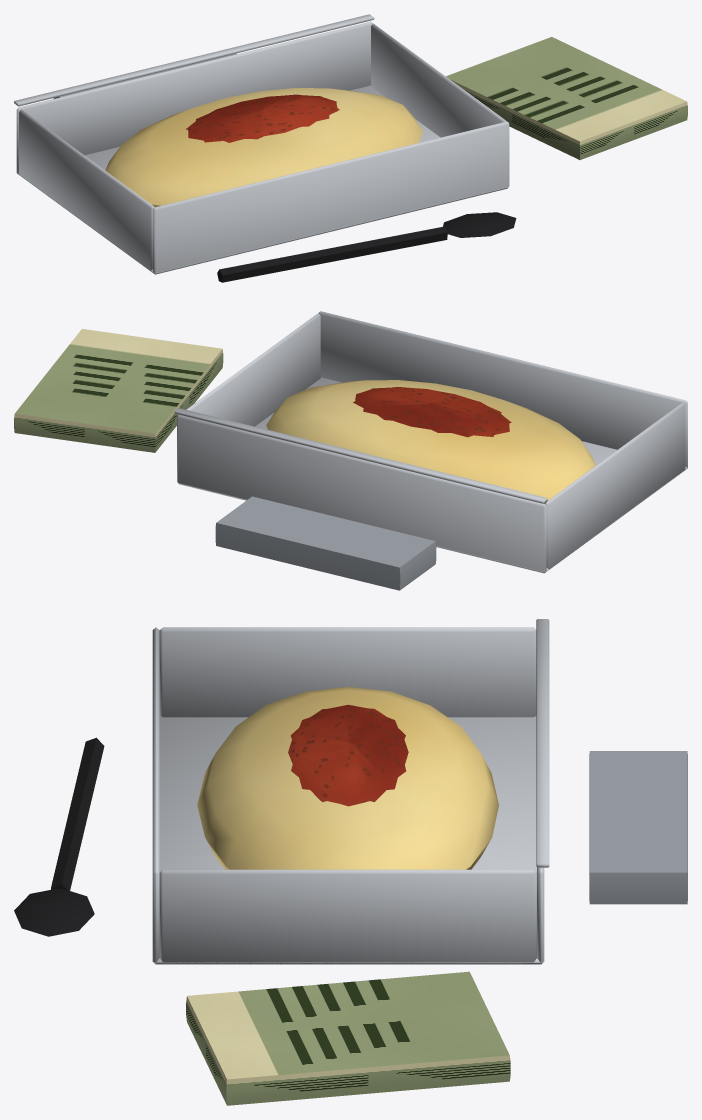
File: ration_mre_tray_pasta.glb
The picture shows the model from 3 angles, top to bottom: view 1: azimuth 30°, elevation 25°; view 2: azimuth 150°, elevation 25°; view 3: azimuth 270°, elevation 25°; orthographic projection. The views are drawn at different scales.
Parts seen in each view (by area): view 1: ration_mre_tray_pasta; view 2: ration_mre_tray_pasta; view 3: ration_mre_tray_pasta.
Part boxes in pixels (<box>): ration_mre_tray_pasta: <box>14,14,687,282</box>; ration_mre_tray_pasta: <box>14,311,687,590</box>; ration_mre_tray_pasta: <box>14,619,687,1105</box>.
Size of the model in its own units: 0.3142 by 0.0463 by 0.2322.
6 materials, 3 textured.
